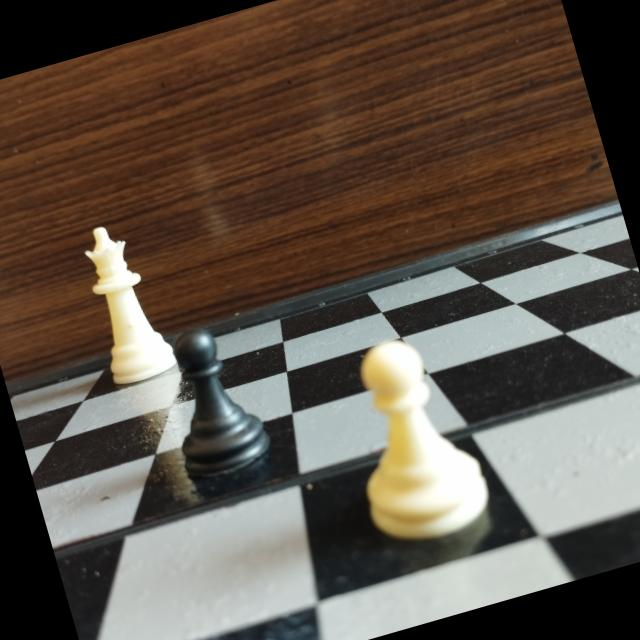Black Pawn: (146, 308, 282, 488)
White Pawn: (322, 320, 502, 557)
White Queen: (68, 207, 184, 391)
